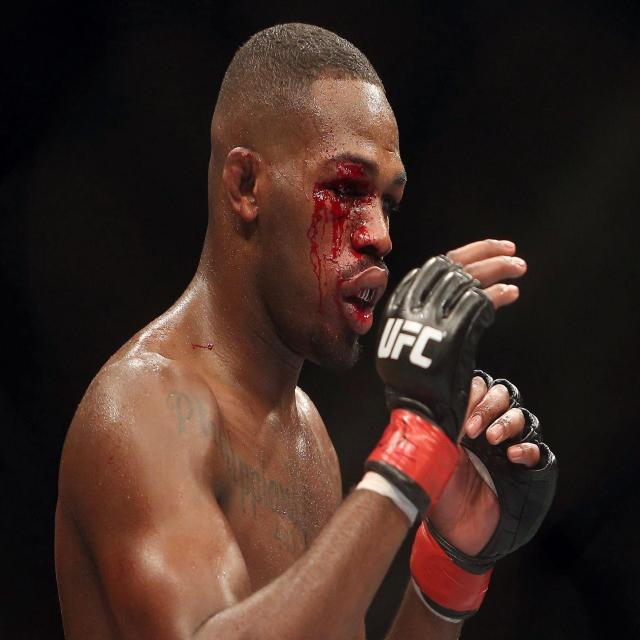flood: (313, 192, 352, 252)
